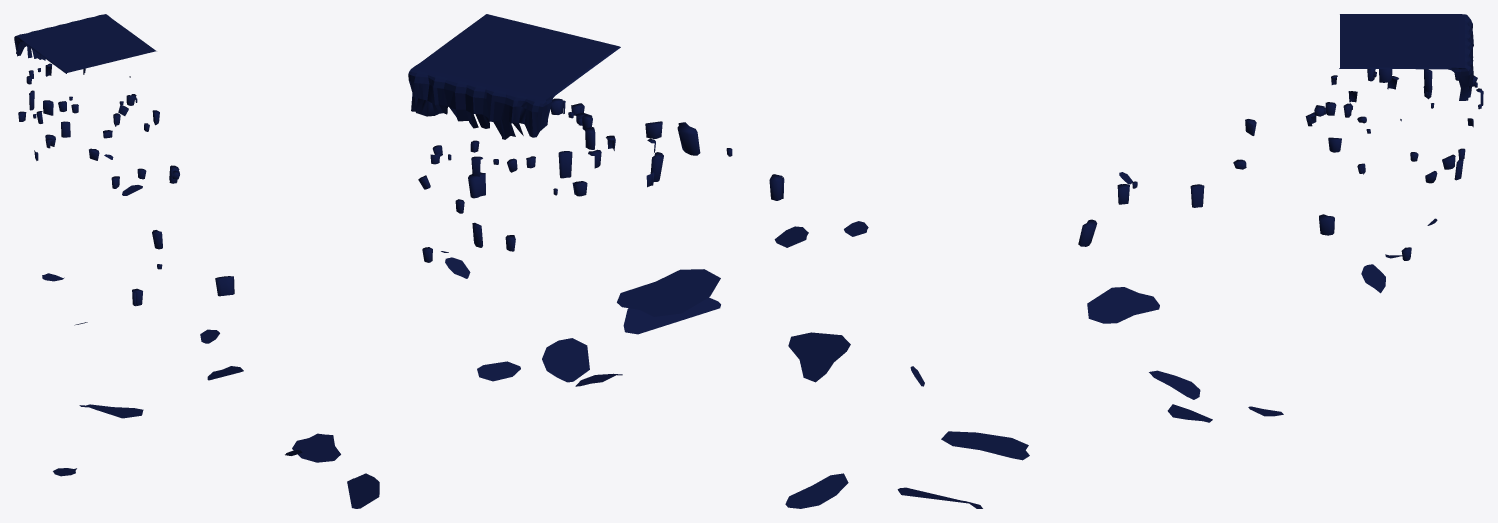
File: stage002.fbx
The picture shows the model from 3 angles, left to right: view 1: azimuth 30°, elevation 25°; view 2: azimuth 150°, elevation 25°; view 3: azimuth 270°, elevation 25°; orthographic projection. The views are drawn at different scales.
Visible parts, largest first — view 1: obj_ST001_Infinite_others.001; view 2: obj_ST001_Infinite_others.001; view 3: obj_ST001_Infinite_others.001.
Part boxes in pixels (box(x1,y1,x2,y2)): obj_ST001_Infinite_others.001: box(14, 14, 379, 508); obj_ST001_Infinite_others.001: box(408, 14, 868, 508); obj_ST001_Infinite_others.001: box(897, 14, 1483, 508).
Size of the model in its own units: 10220 by 14610 by 18580.
